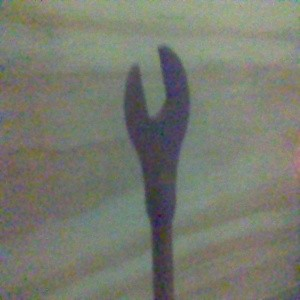spanner: (122, 43, 192, 300)
